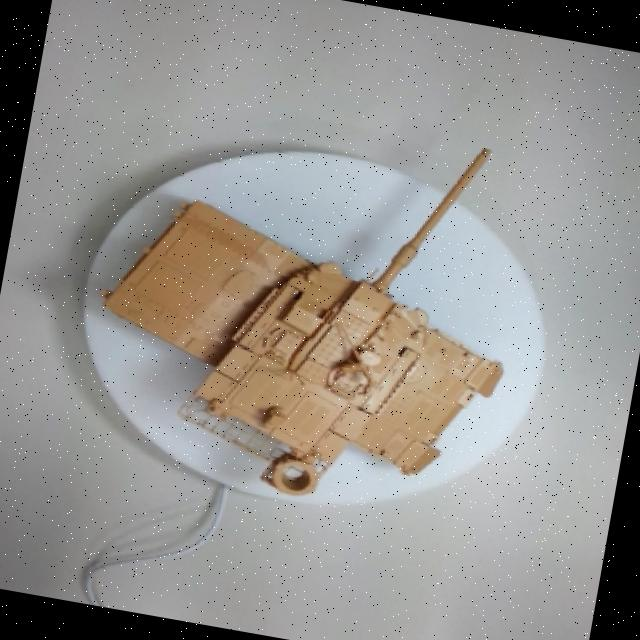korea tank: (81, 39, 580, 530)
